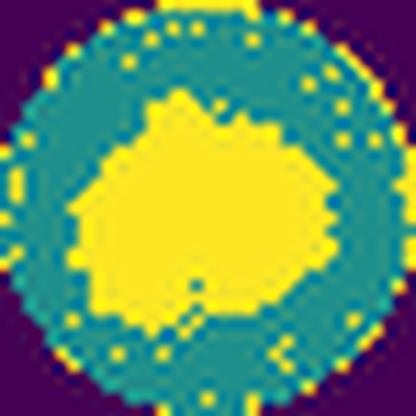Center: (71, 82, 346, 332)
